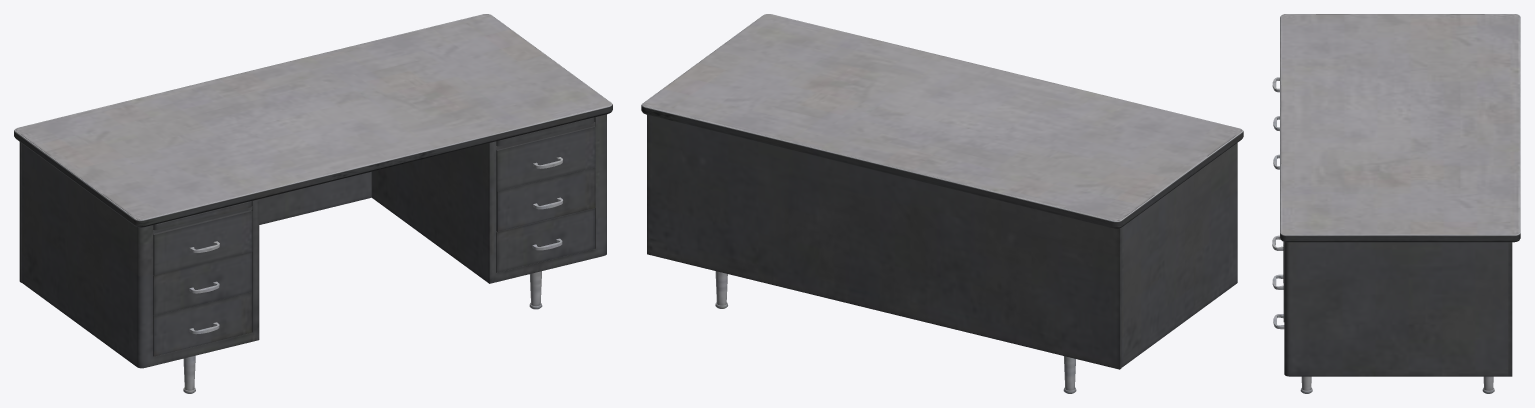
The model's file is desk.glb.
3 views of the same model, side by side, from view 1: azimuth 30°, elevation 25°; view 2: azimuth 150°, elevation 25°; view 3: azimuth 270°, elevation 25° (orthographic). The views are drawn at different scales.
Bounding box in the file's own units: 2 × 0.7875 × 0.9471.
1 material, 1 textured.
